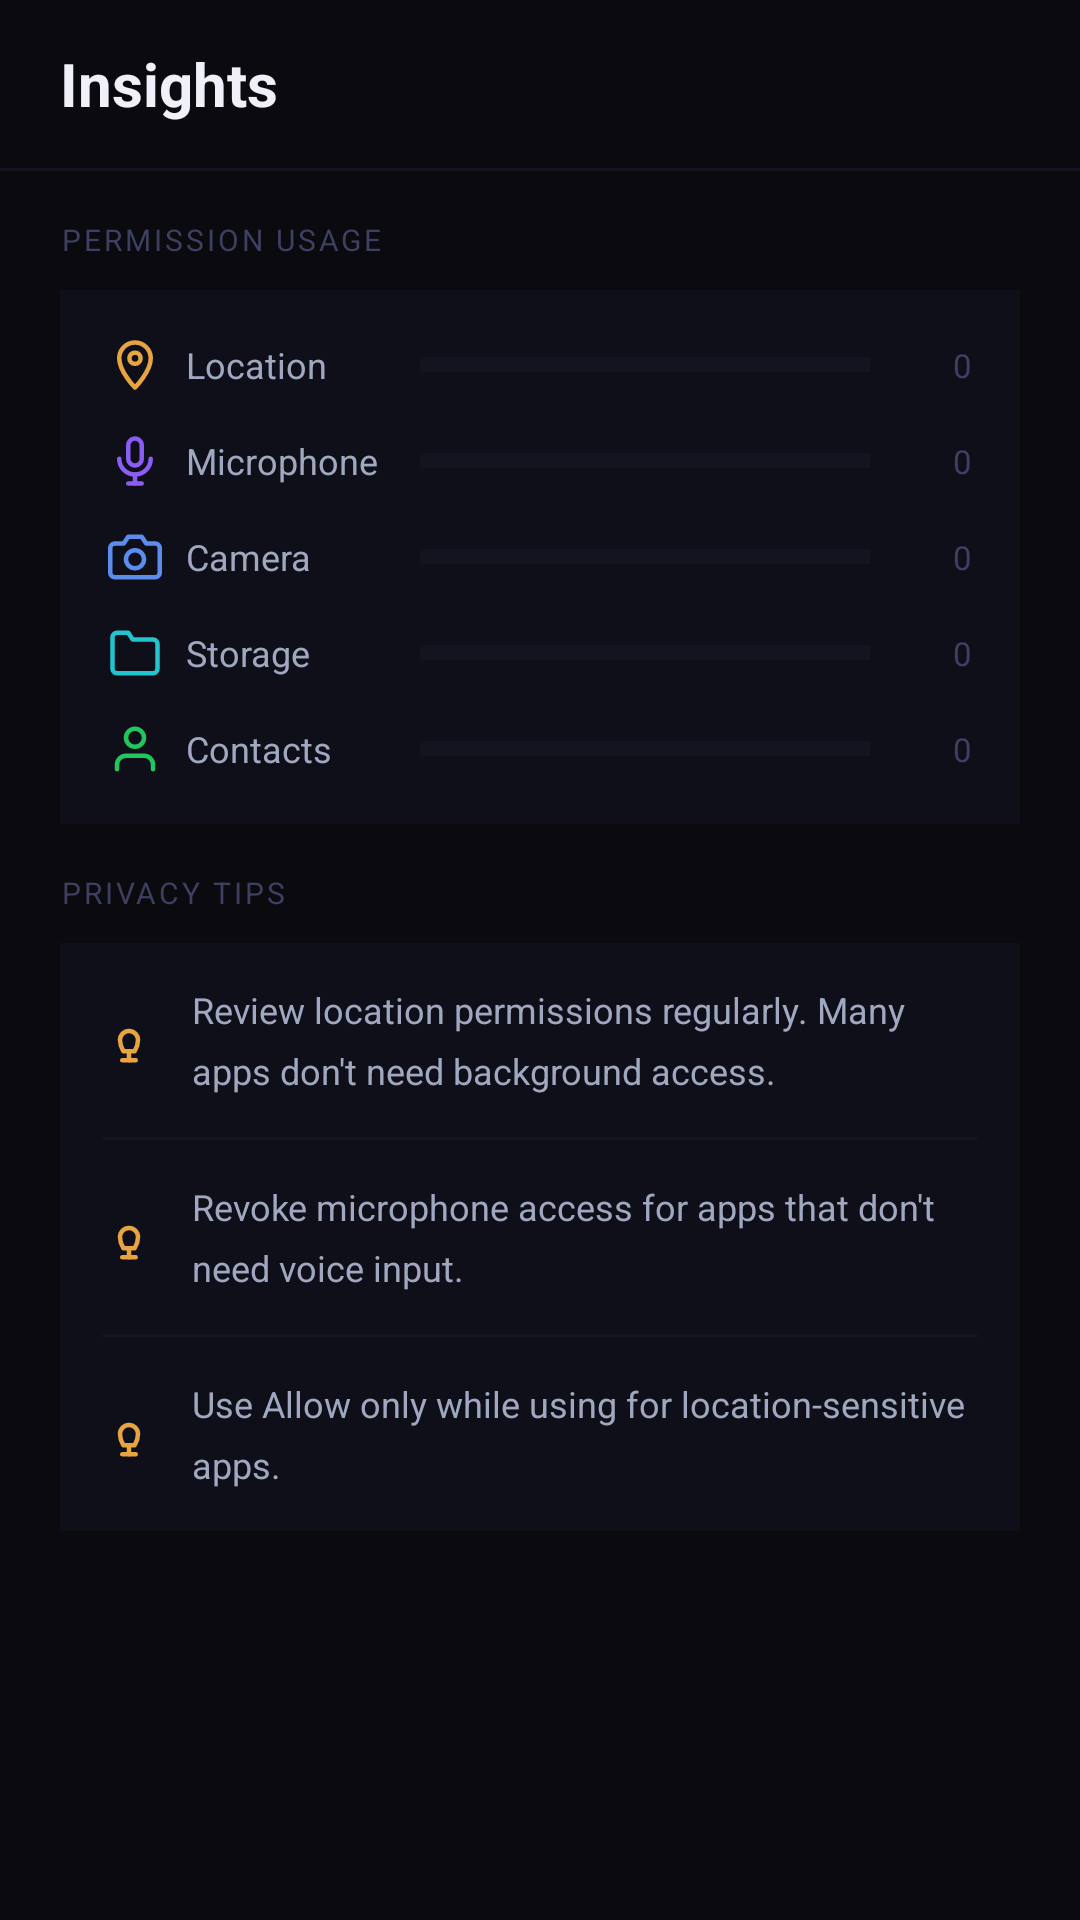

Named icons in this screenshot (1080 x 1920) and their centers, [x,y]:
lightbulb: [129,1045], [129,1242], [129,1439]
